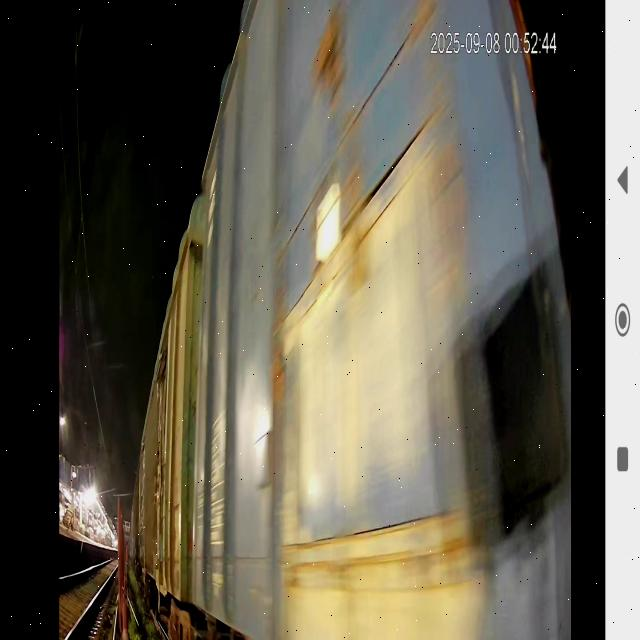coach: (206, 15, 570, 640)
